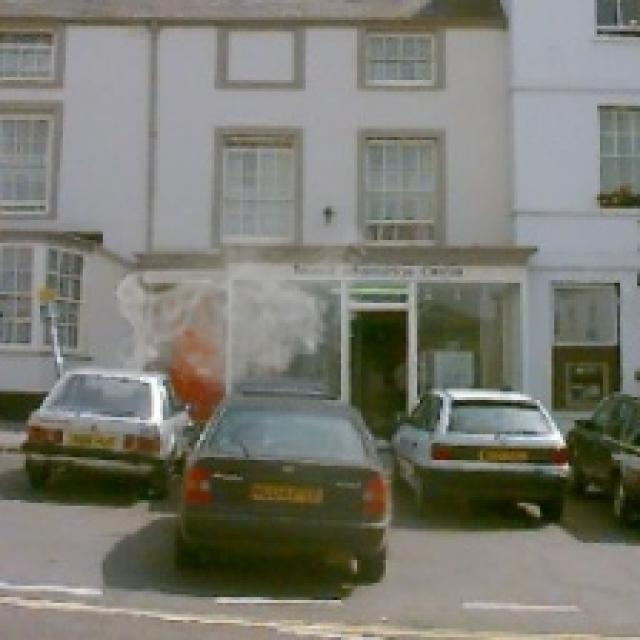Smoke: (109, 200, 378, 400)
